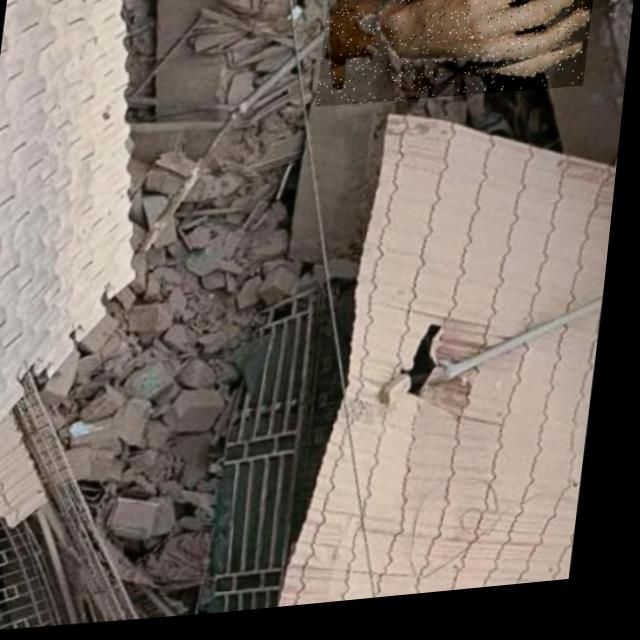Person in Rubble: (317, 0, 598, 118)
